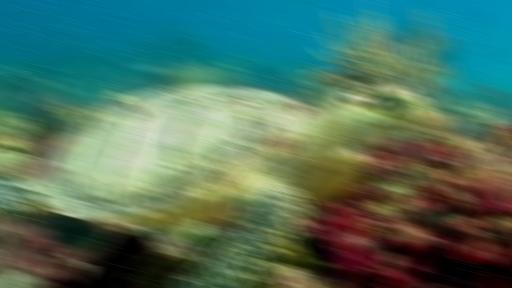Fish: (0, 84, 431, 287)
